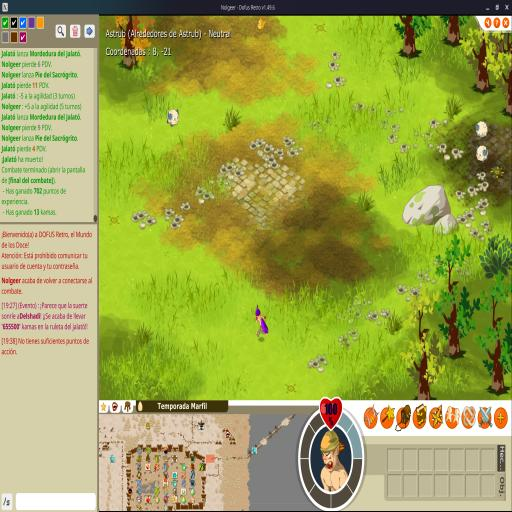Enemigos: (166, 108, 180, 128), (474, 119, 488, 139), (476, 144, 488, 163), (257, 16, 266, 31)
Personaje: (254, 304, 270, 338)
